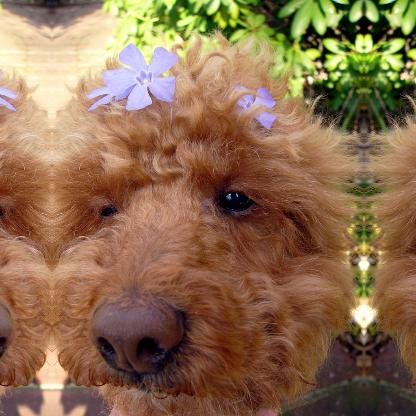Dog: (52, 29, 362, 415)
